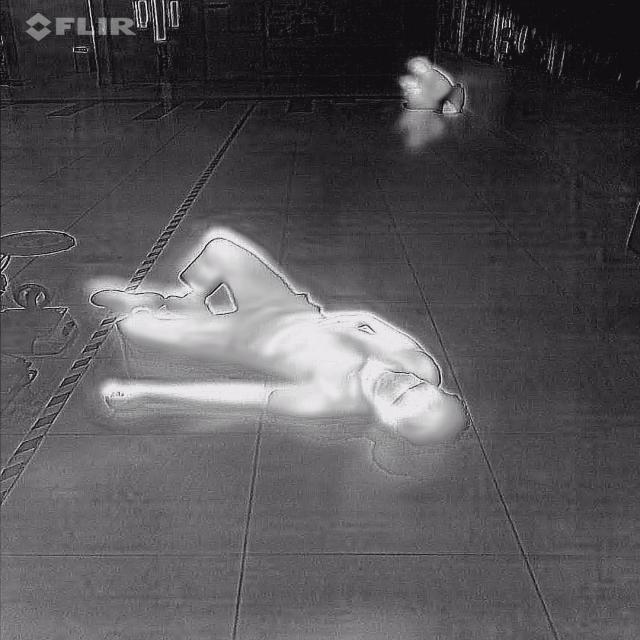Victim: (80, 228, 480, 464), (387, 50, 478, 117)
